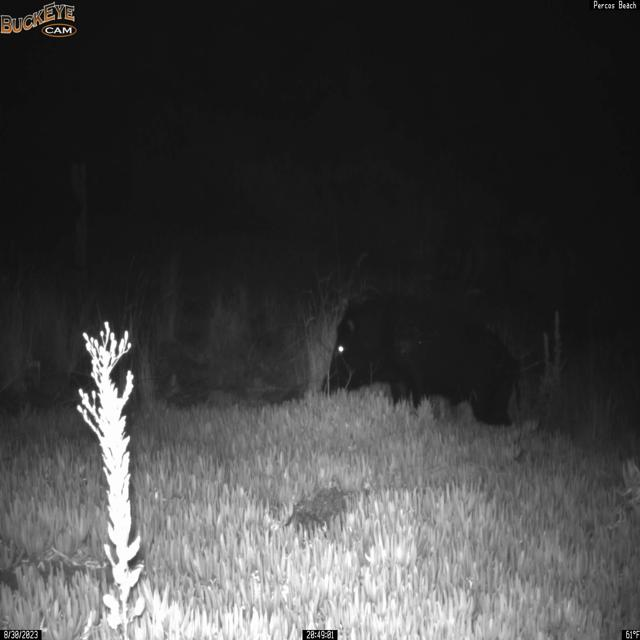pig: (320, 292, 523, 427)
